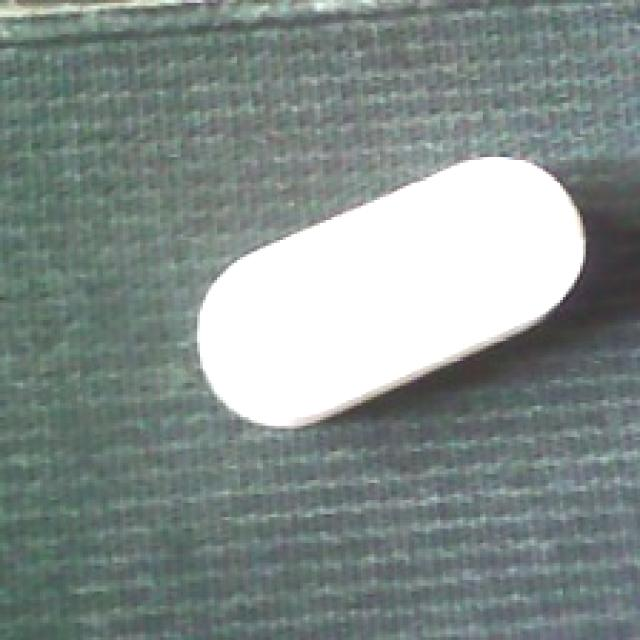no-defect: (192, 152, 592, 432)
